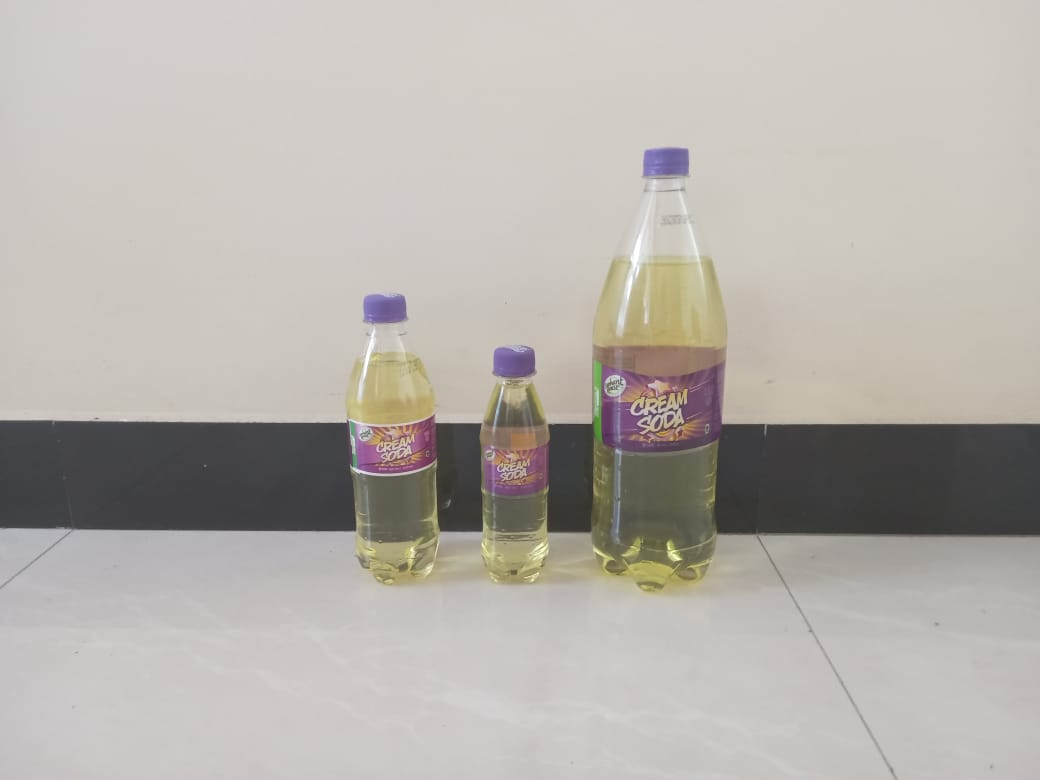L: (591, 148, 728, 593)
S: (338, 290, 445, 589)
Xs: (472, 345, 557, 586)
